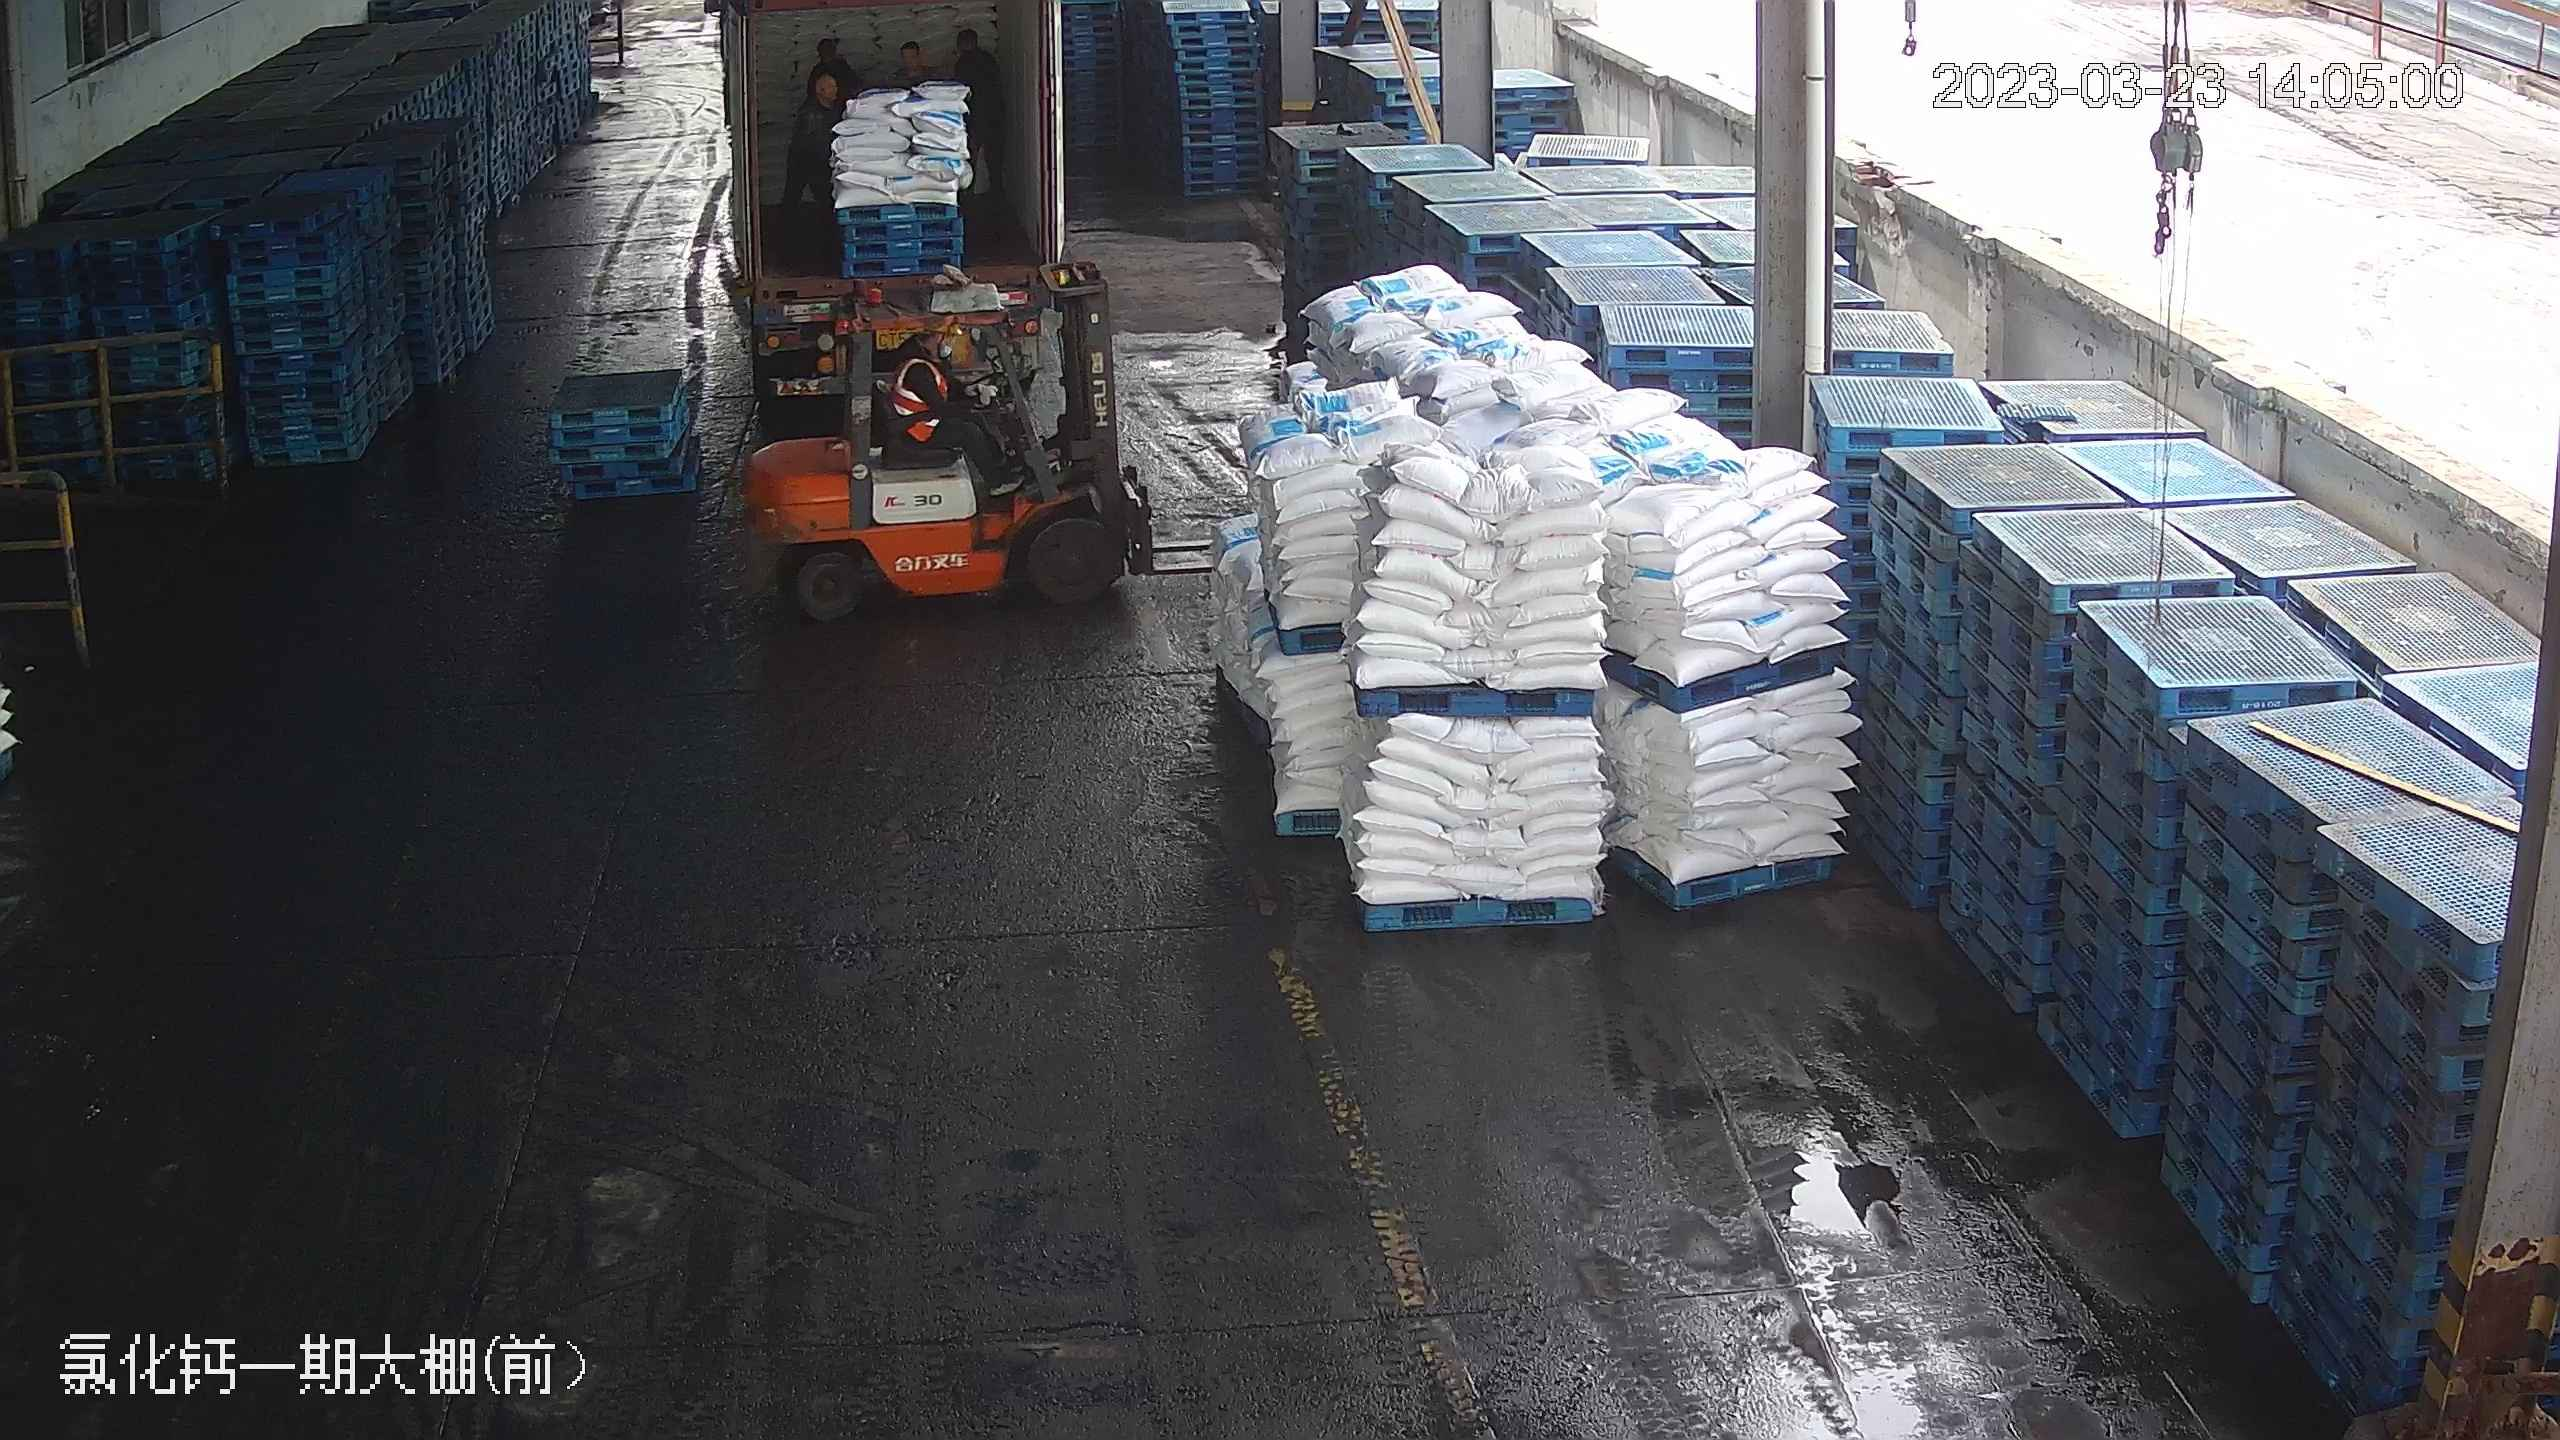head: (892, 326, 960, 390), (952, 25, 1003, 93), (796, 71, 842, 139), (813, 36, 858, 86), (892, 38, 936, 88)
people: (879, 328, 1013, 482), (776, 69, 852, 230), (954, 18, 1015, 201)
truck: (738, 16, 1066, 366)
